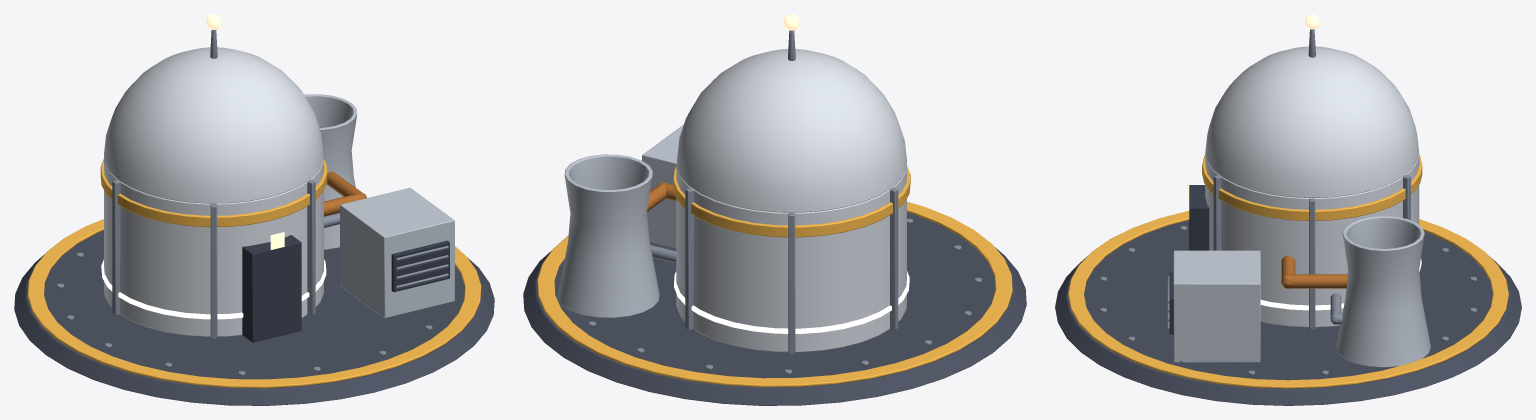
The model's file is reactor.fbx.
3 renders of one model, left to right at view 1: azimuth 30°, elevation 25°; view 2: azimuth 150°, elevation 25°; view 3: azimuth 270°, elevation 25°, orthographic. The views are drawn at different scales.
Parts seen in each view (by area): view 1: reactor_Koerper; view 2: reactor_Koerper; view 3: reactor_Koerper.
Part boxes in pixels (x1,y1,x2,y2): reactor_Koerper: (14,14,494,405); reactor_Koerper: (523,14,1026,405); reactor_Koerper: (1055,14,1521,405).
Size of the model in its own units: 5.89 by 3.89 by 5.89.
